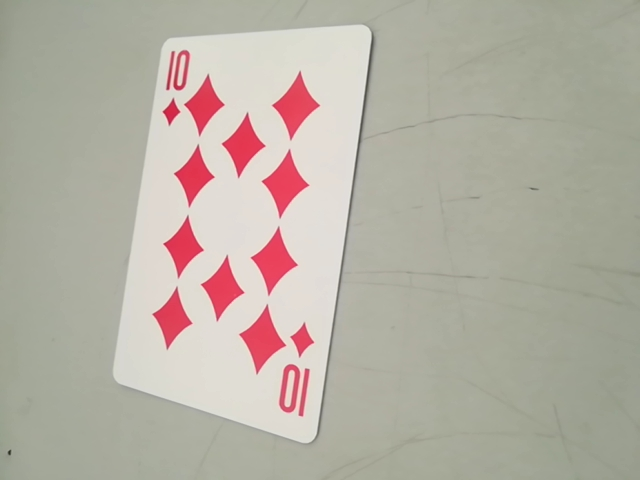fk 10: (274, 335, 319, 424), (160, 41, 198, 120)
